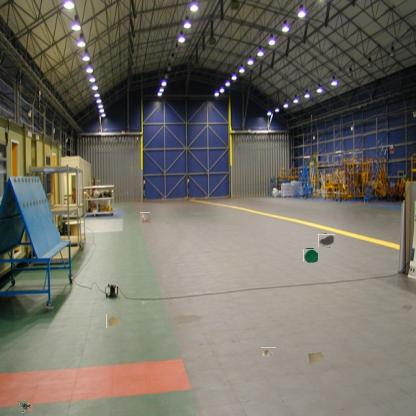dirty: (308, 350, 324, 364), (303, 248, 318, 262), (260, 347, 276, 358), (18, 400, 32, 412), (140, 213, 151, 223)
liquid: (319, 233, 334, 248), (106, 314, 121, 328)
